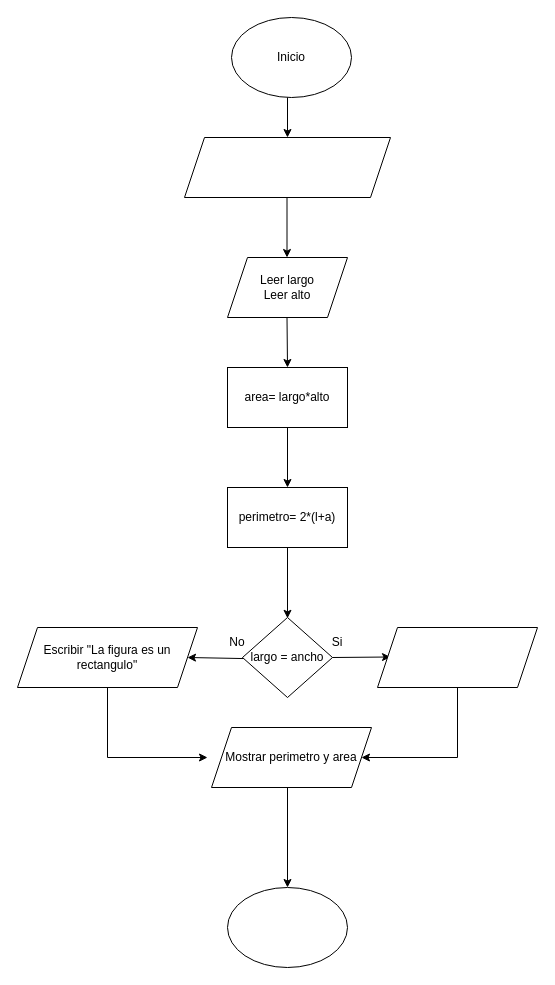
Image size: 555x985. Some labels were removed from this diagram. Here are the shapes that lost their labels. From the top down, the centre of each, then its label:
(287,167): Escribir "Ingrese el largo y el alto"
(457,657): Escribir "La figura es un cuadrado"
(287,927): Fin
